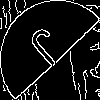J: (25, 25, 74, 77)
